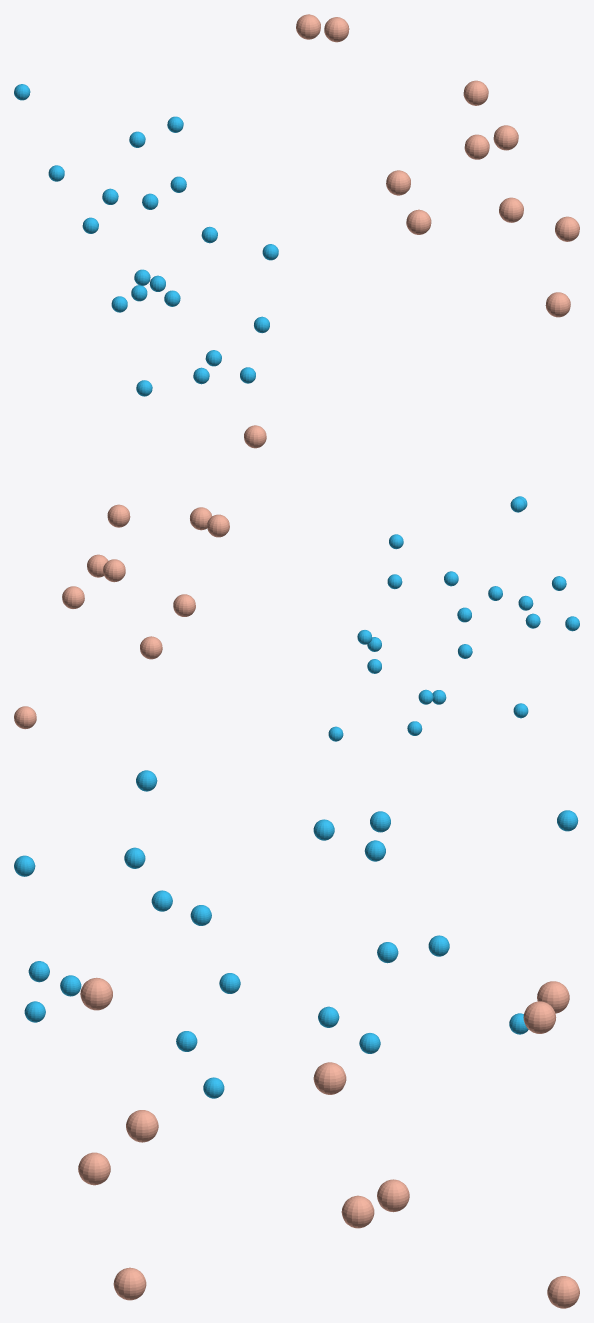
The model's file is asset.glb.
3 renders of one model, top to bottom at view 1: azimuth 30°, elevation 25°; view 2: azimuth 150°, elevation 25°; view 3: azimuth 270°, elevation 25°, orthographic. The views are drawn at different scales.
Visible parts, largest first — view 1: O2_05, O2_00, O2_06, O2_08, O2_01, O2_07, O2_04, O2_09, O2_02, O2_03; view 2: O2_00, O2_01, O2_02, O2_06, O2_05, O2_08, O2_09, O2_04; view 3: O2_09, O2_06, O2_02, O2_05, O2_00, O2_07, O2_03, O2_04, O2_08, O2_01.
Part boxes in pixels (x1=…): O2_05: x1=464, y1=134, x2=489, y2=159; O2_00: x1=463, y1=80, x2=488, y2=105; O2_06: x1=406, y1=209, x2=431, y2=234; O2_08: x1=493, y1=125, x2=518, y2=150; O2_01: x1=296, y1=14, x2=320, y2=39; O2_07: x1=324, y1=17, x2=349, y2=42; O2_04: x1=499, y1=197, x2=523, y2=222; O2_09: x1=545, y1=292, x2=570, y2=317; O2_02: x1=386, y1=170, x2=410, y2=195; O2_03: x1=555, y1=216, x2=579, y2=241; O2_00: x1=107, y1=504, x2=130, y2=527; O2_01: x1=103, y1=559, x2=125, y2=582; O2_02: x1=14, y1=706, x2=36, y2=729; O2_06: x1=140, y1=636, x2=162, y2=659; O2_05: x1=62, y1=586, x2=84, y2=608; O2_08: x1=244, y1=425, x2=266, y2=448; O2_09: x1=173, y1=594, x2=195, y2=616; O2_04: x1=207, y1=514, x2=229, y2=537; O2_09: x1=113, y1=1267, x2=146, y2=1300; O2_06: x1=341, y1=1195, x2=374, y2=1228; O2_02: x1=547, y1=1276, x2=579, y2=1308; O2_05: x1=377, y1=1179, x2=409, y2=1212; O2_00: x1=313, y1=1062, x2=346, y2=1094; O2_07: x1=523, y1=1001, x2=556, y2=1033; O2_03: x1=78, y1=1152, x2=110, y2=1185; O2_04: x1=126, y1=1110, x2=158, y2=1142; O2_08: x1=80, y1=977, x2=112, y2=1010; O2_01: x1=537, y1=981, x2=569, y2=1013.
Bounding box in the file's own units: 8.27 × 3.98 × 6.91.
